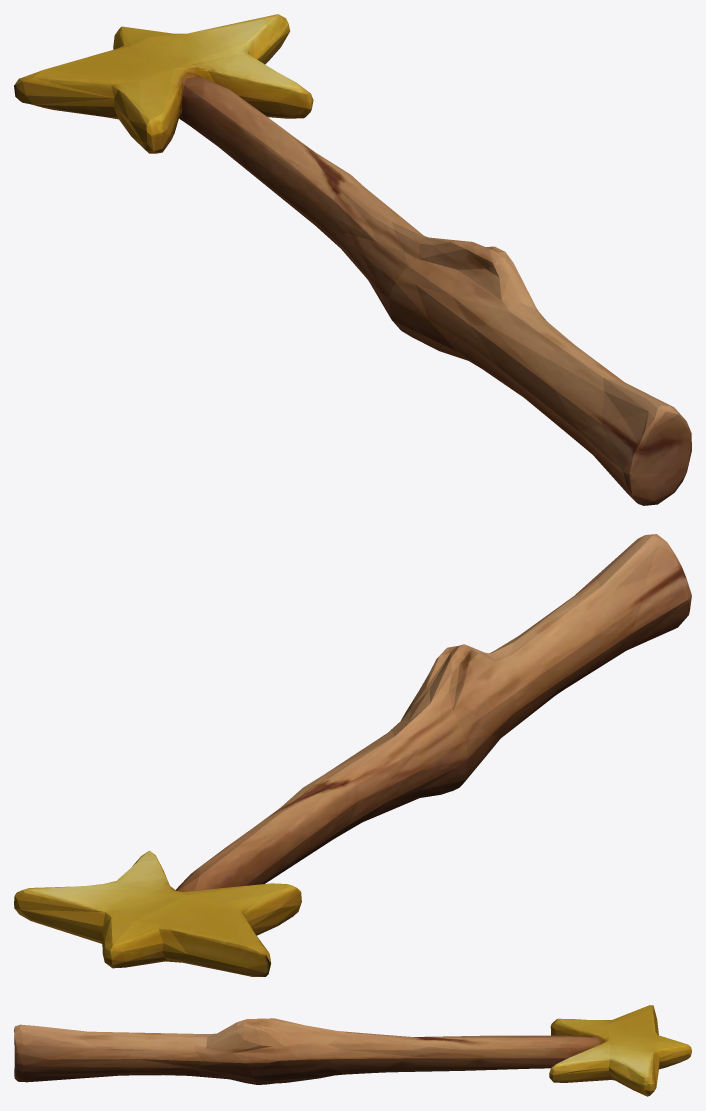
The model's file is magic_wand.glb.
The picture shows the model from 3 angles, top to bottom: view 1: azimuth 30°, elevation 25°; view 2: azimuth 150°, elevation 25°; view 3: azimuth 270°, elevation 25°; orthographic projection. The views are drawn at different scales.
Visible parts, largest first — view 1: geometry_0; view 2: geometry_0; view 3: geometry_0.
Part boxes in pixels (bbox=[...]): geometry_0: bbox=[14, 14, 691, 505]; geometry_0: bbox=[14, 534, 691, 976]; geometry_0: bbox=[14, 1005, 691, 1096].
Size of the model in its own units: 0.1338 by 0.0536 by 0.48.
Materials: 1 (1 with a texture image).
